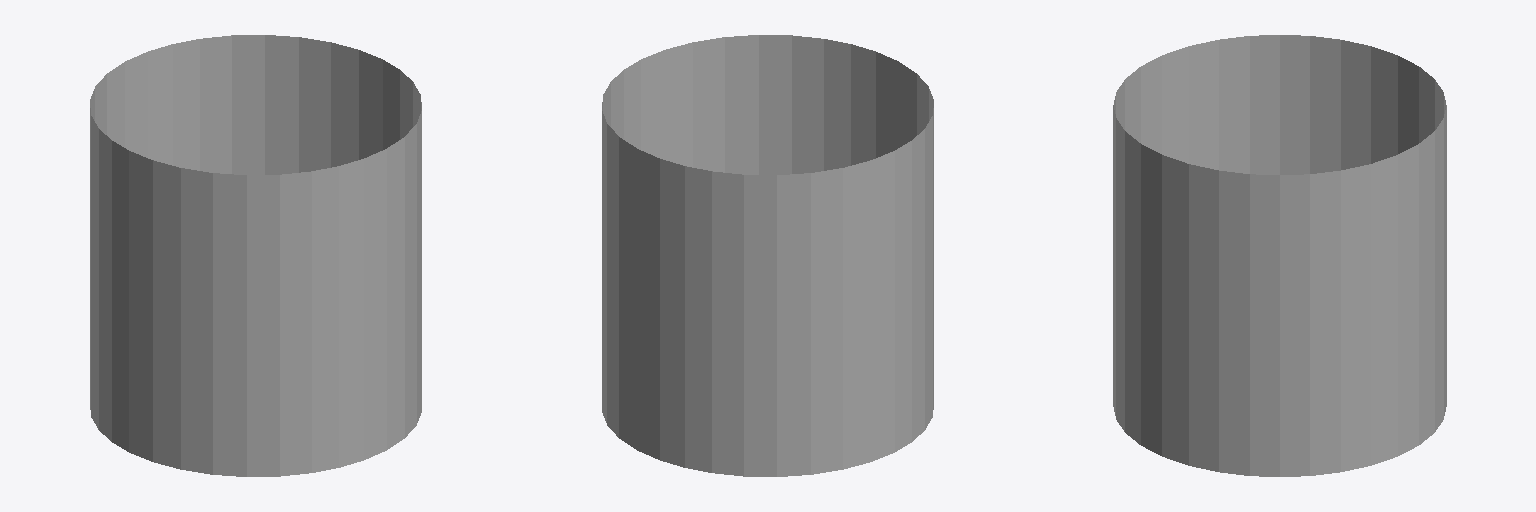
3 views of the same model, side by side, from view 1: azimuth 30°, elevation 25°; view 2: azimuth 150°, elevation 25°; view 3: azimuth 270°, elevation 25° (orthographic).
Parts seen in each view (by area): view 1: SurfCylinder; view 2: SurfCylinder; view 3: SurfCylinder.
Boxes of the visible parts, box(x1,y1,x2,y2) form: SurfCylinder: box(90, 35, 421, 476); SurfCylinder: box(602, 35, 933, 476); SurfCylinder: box(1113, 35, 1446, 476).
Size of the model in its own units: 2 by 2 by 2.